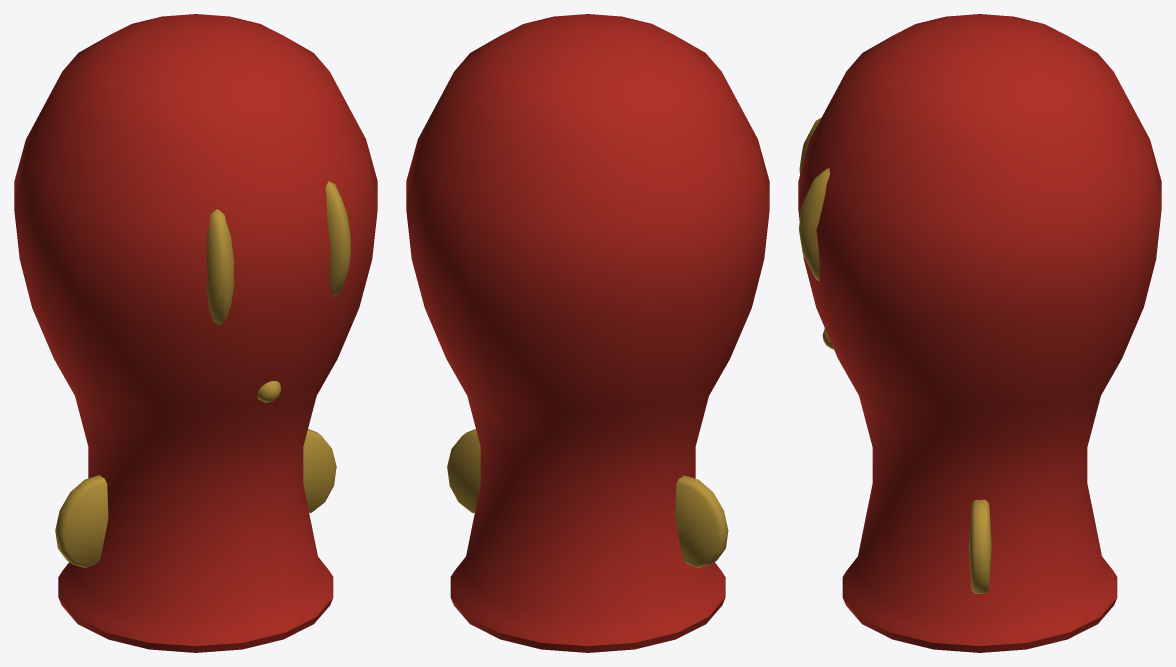
File: SpokaNightLight3.FBX
3 views of the same model, side by side, from view 1: azimuth 30°, elevation 25°; view 2: azimuth 150°, elevation 25°; view 3: azimuth 270°, elevation 25° (orthographic).
Visible parts, largest first — view 1: SpokaNightLight3; view 2: SpokaNightLight3; view 3: SpokaNightLight3.
Part boxes in pixels (x1=…): SpokaNightLight3: x1=14, y1=14, x2=377, y2=652; SpokaNightLight3: x1=406, y1=14, x2=769, y2=652; SpokaNightLight3: x1=798, y1=14, x2=1161, y2=652.
Bounding box in the file's own units: 196 × 330 × 193.
